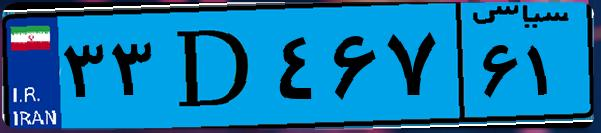1: (525, 38, 570, 115)
3: (57, 26, 110, 100), (110, 28, 158, 98)
4: (270, 28, 330, 110)
6: (330, 28, 385, 110), (475, 38, 525, 113)
7: (385, 28, 445, 110)
D: (158, 12, 270, 120)
